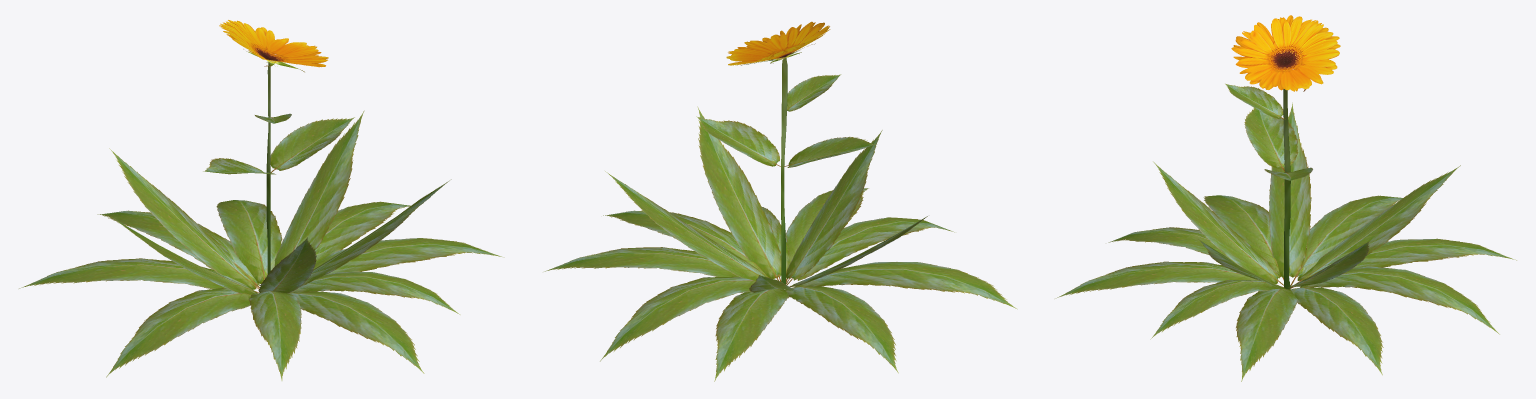
File: Flower tree1.fbx
3 views of the same model, side by side, from view 1: azimuth 30°, elevation 25°; view 2: azimuth 150°, elevation 25°; view 3: azimuth 270°, elevation 25° (orthographic). The views are drawn at different scales.
Visible parts, largest first — view 1: Plane158; view 2: Plane158; view 3: Plane158.
Boxes of the visible parts, x1=… form: Plane158: x1=19, y1=20, x2=504, y2=380; Plane158: x1=544, y1=21, x2=1017, y2=381; Plane158: x1=1055, y1=15, x2=1516, y2=381.
Size of the model in its own units: 39.31 by 25.39 by 40.3.
